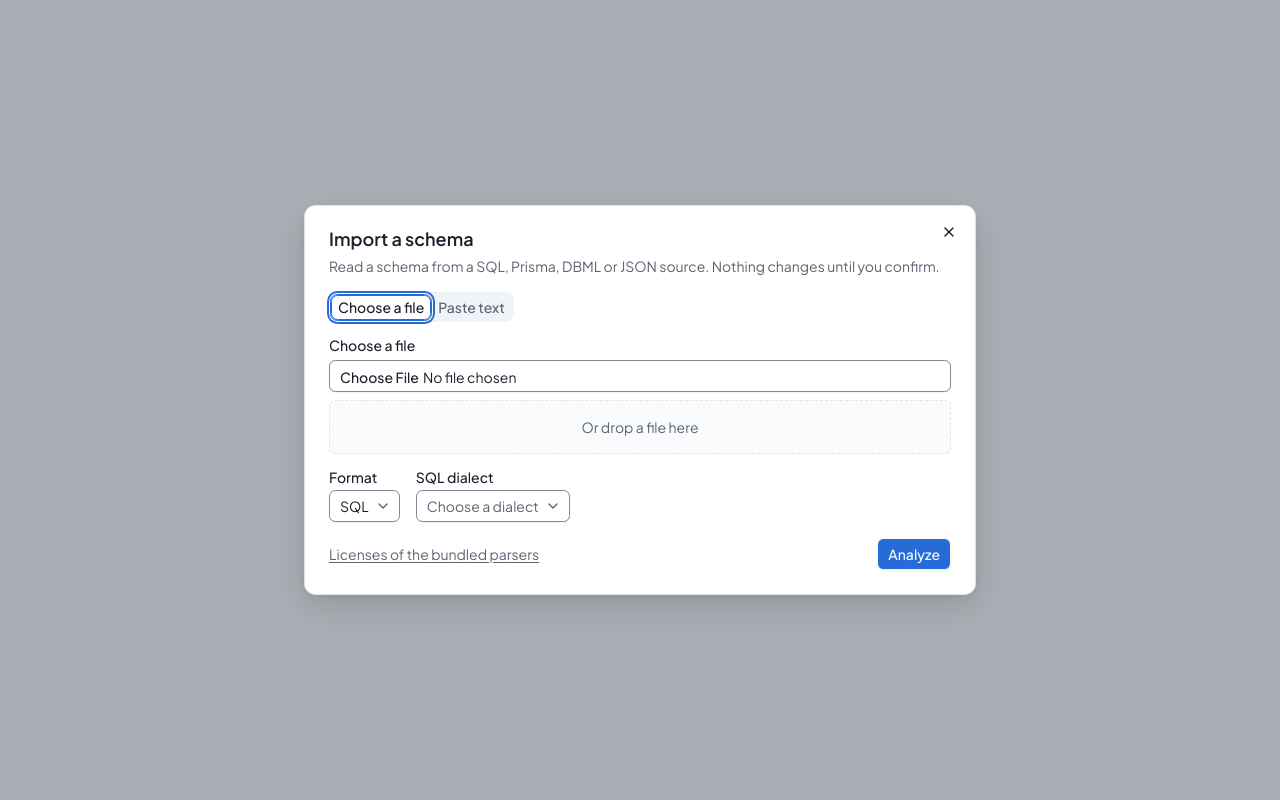
Test case: ImportDialog › keeps the analyze button enabled and reports a missing dialect
The width and height of the screenshot is (1280, 800).
Click the tab "Paste text" at x=472, y=307, box 431,294 -> 512,320
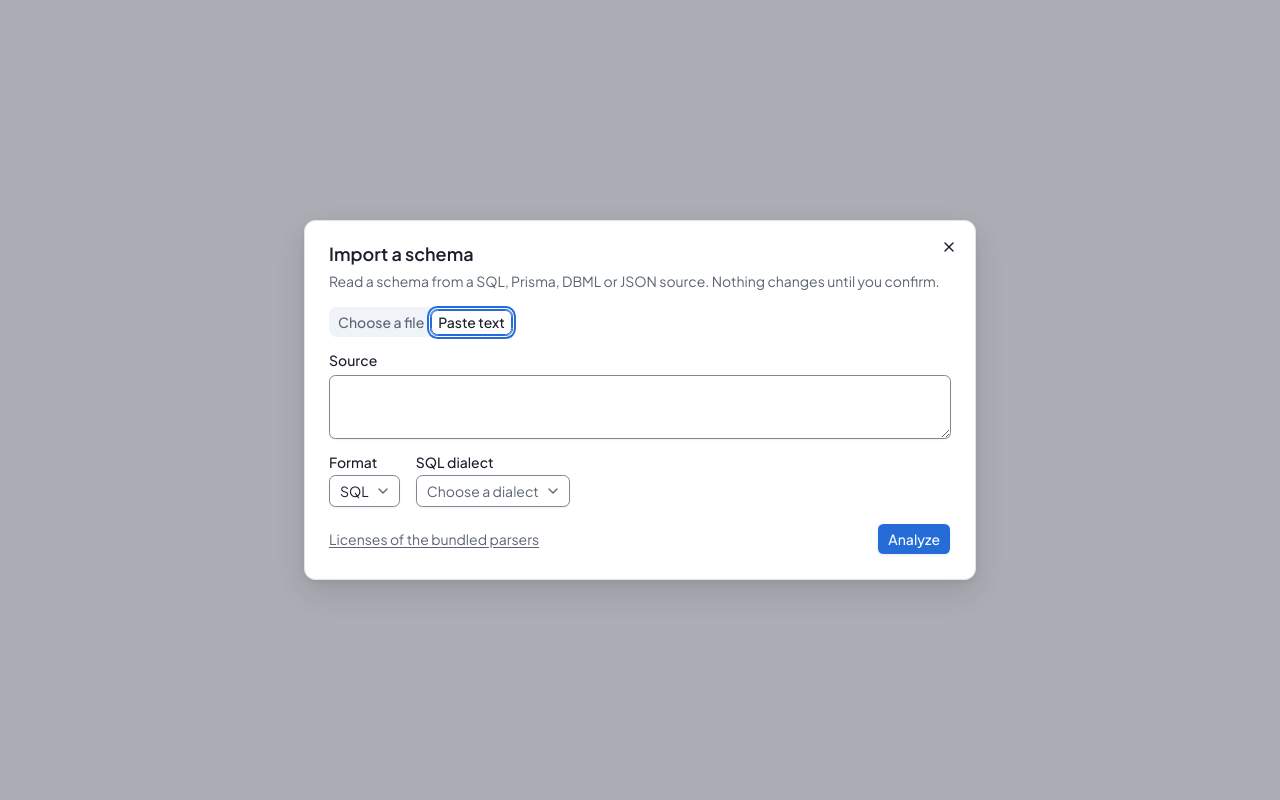
Click the text box labelled "Source" at x=640, y=407, box 329,375 -> 951,439
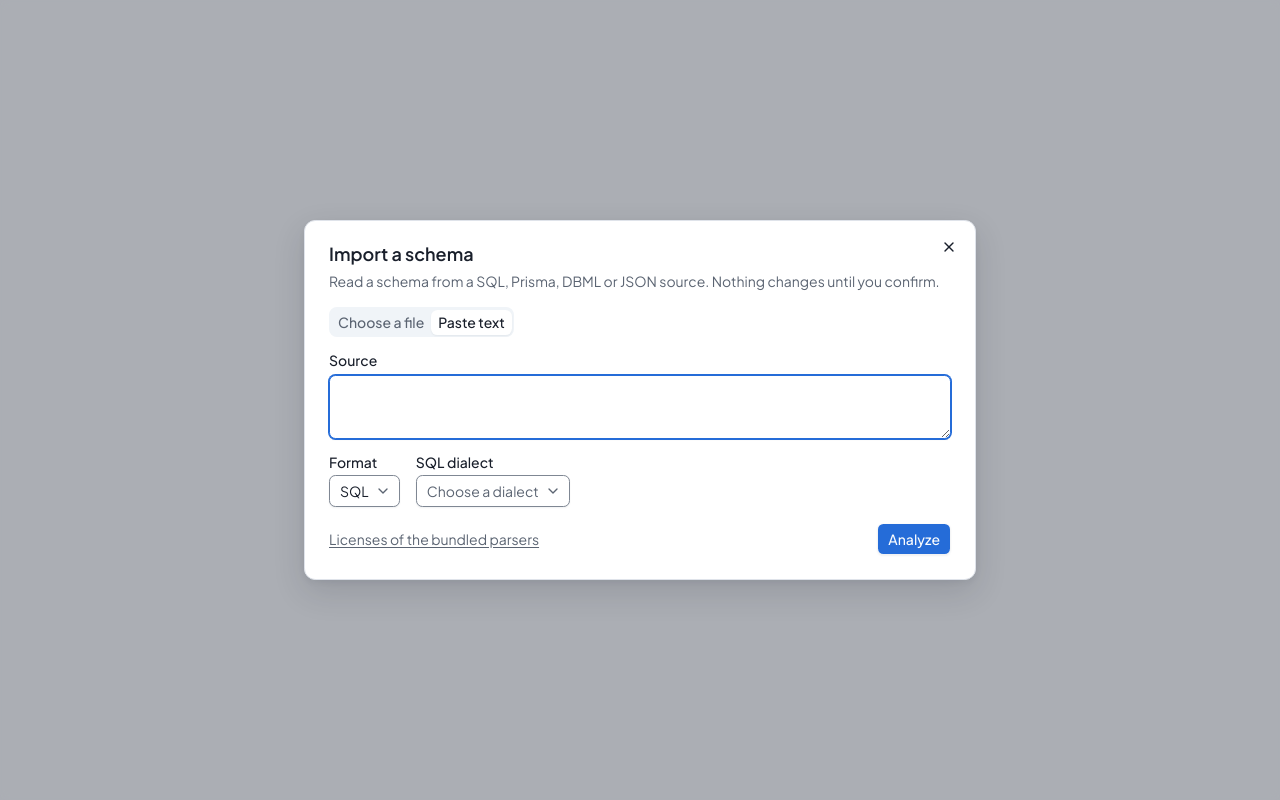
Type keys "select 1"
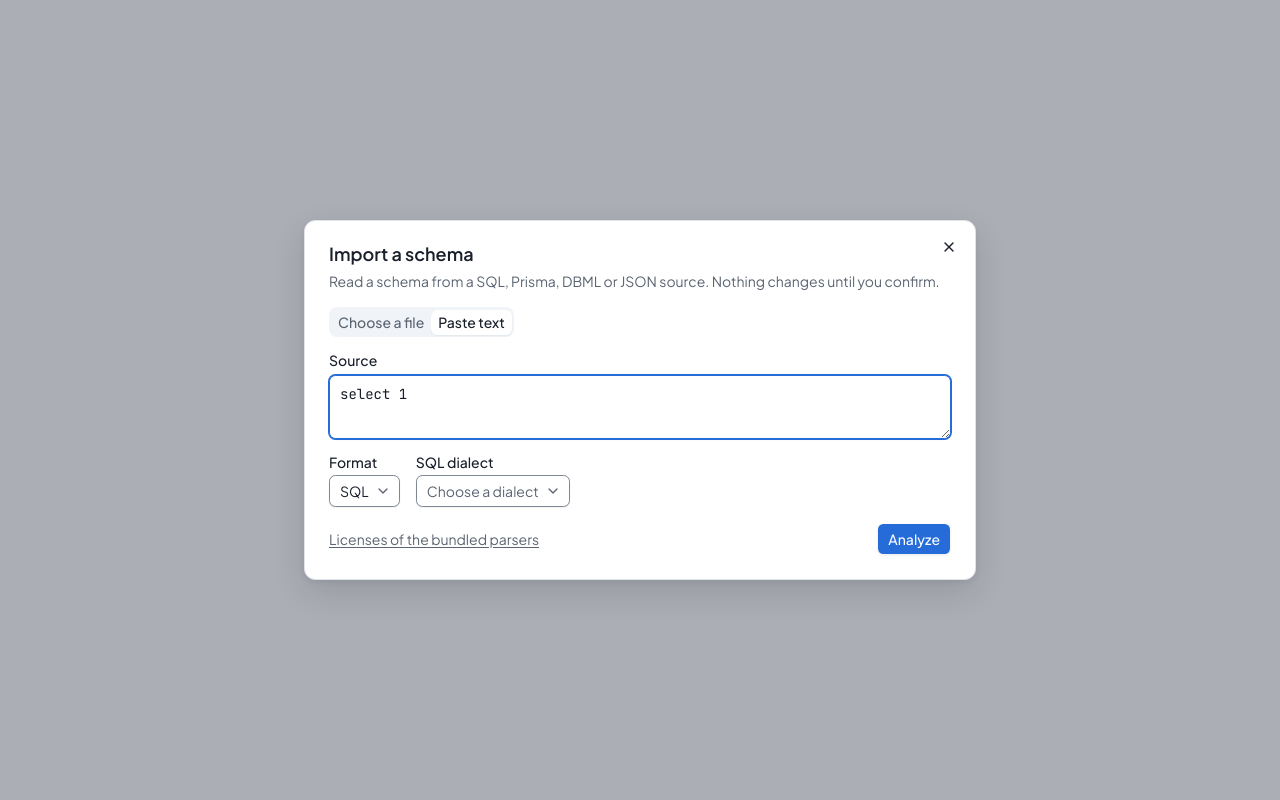
Click the button "Analyze" at x=914, y=539, box 877,523 -> 951,555
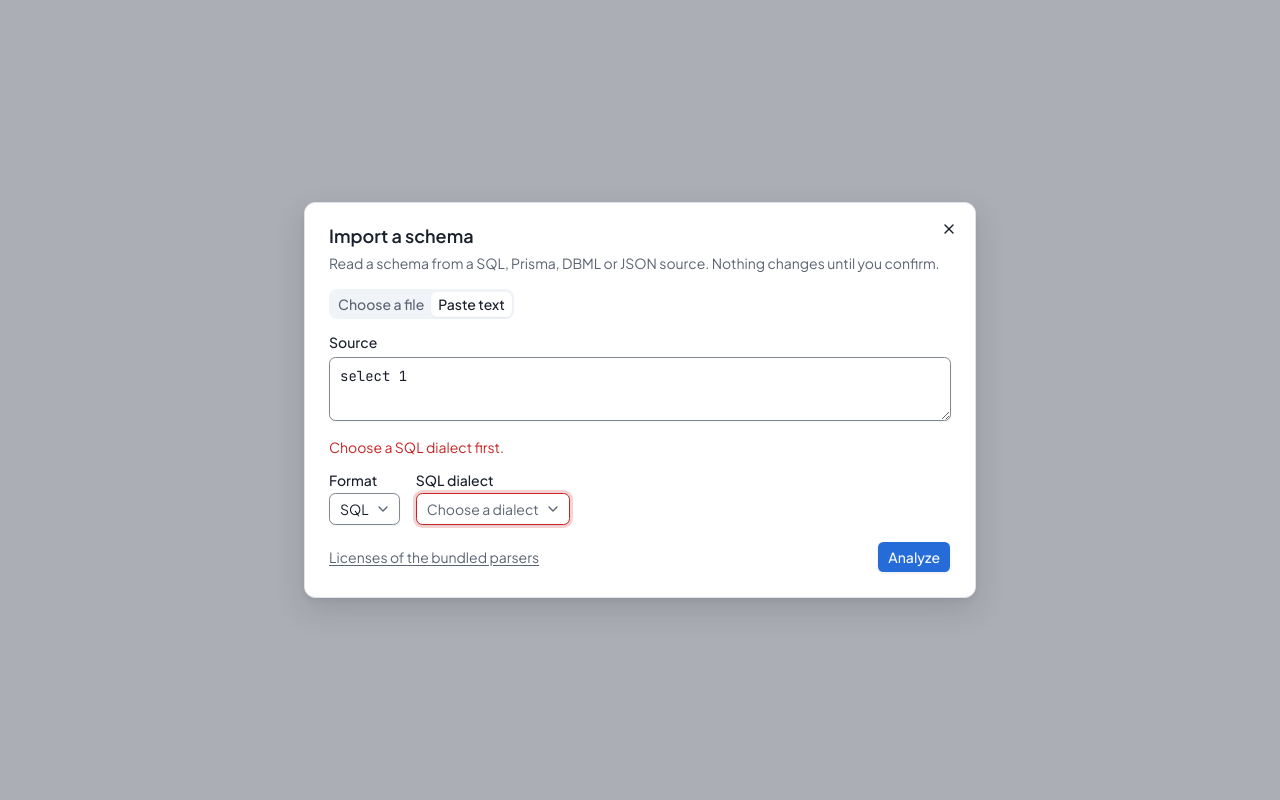
Expected: the message reads "Choose a SQL dialect first.", 329,438 -> 504,456
Click the dropdown named "SQL dialect" at x=493, y=509, box 416,493 -> 570,525
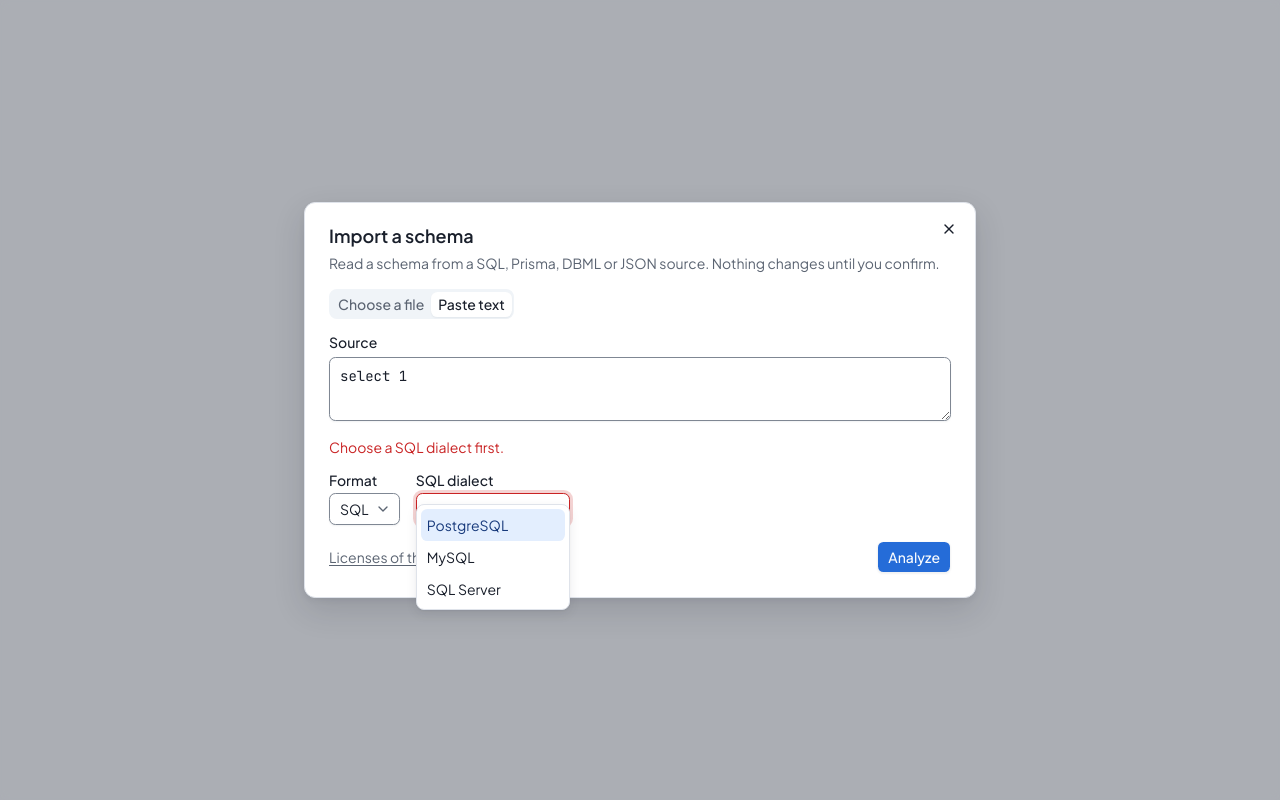
Click the option "MySQL" at x=451, y=556, box 427,548 -> 475,566
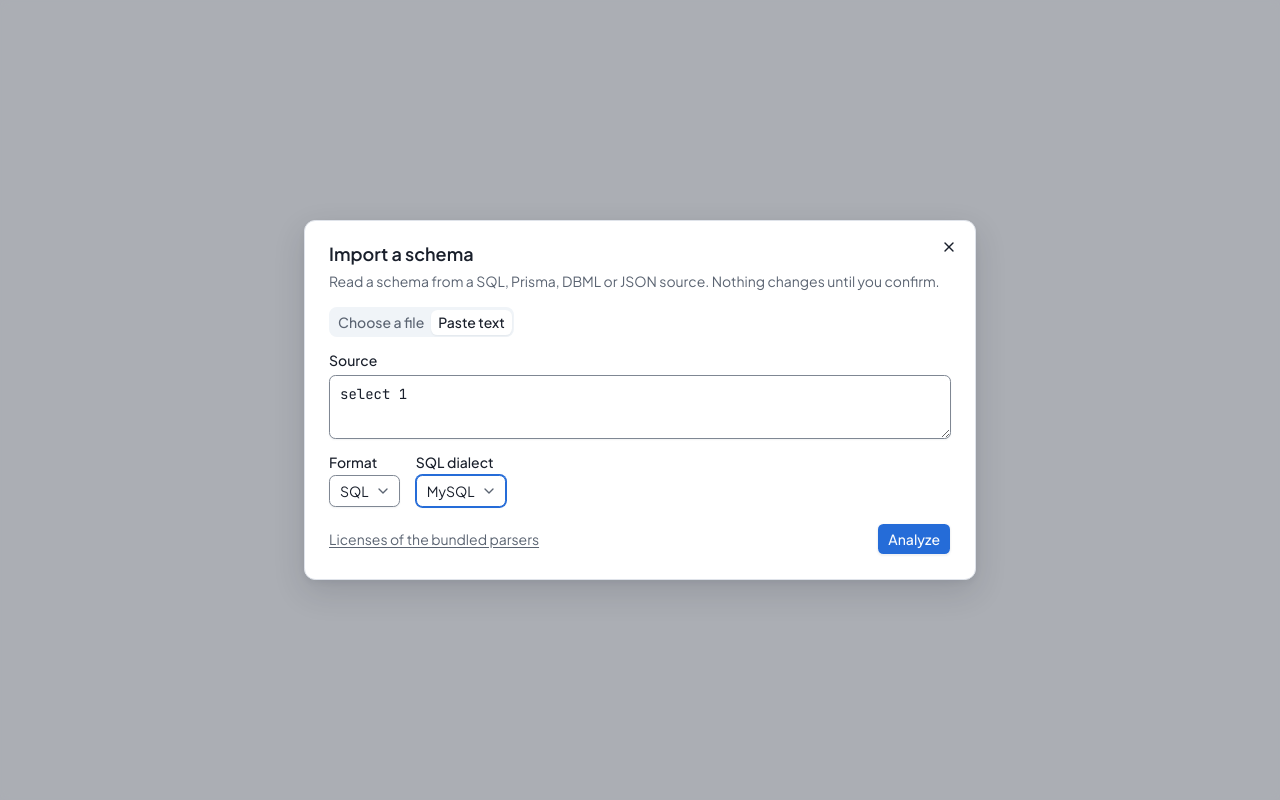
Expected: the message "Choose a SQL dialect first." is gone
